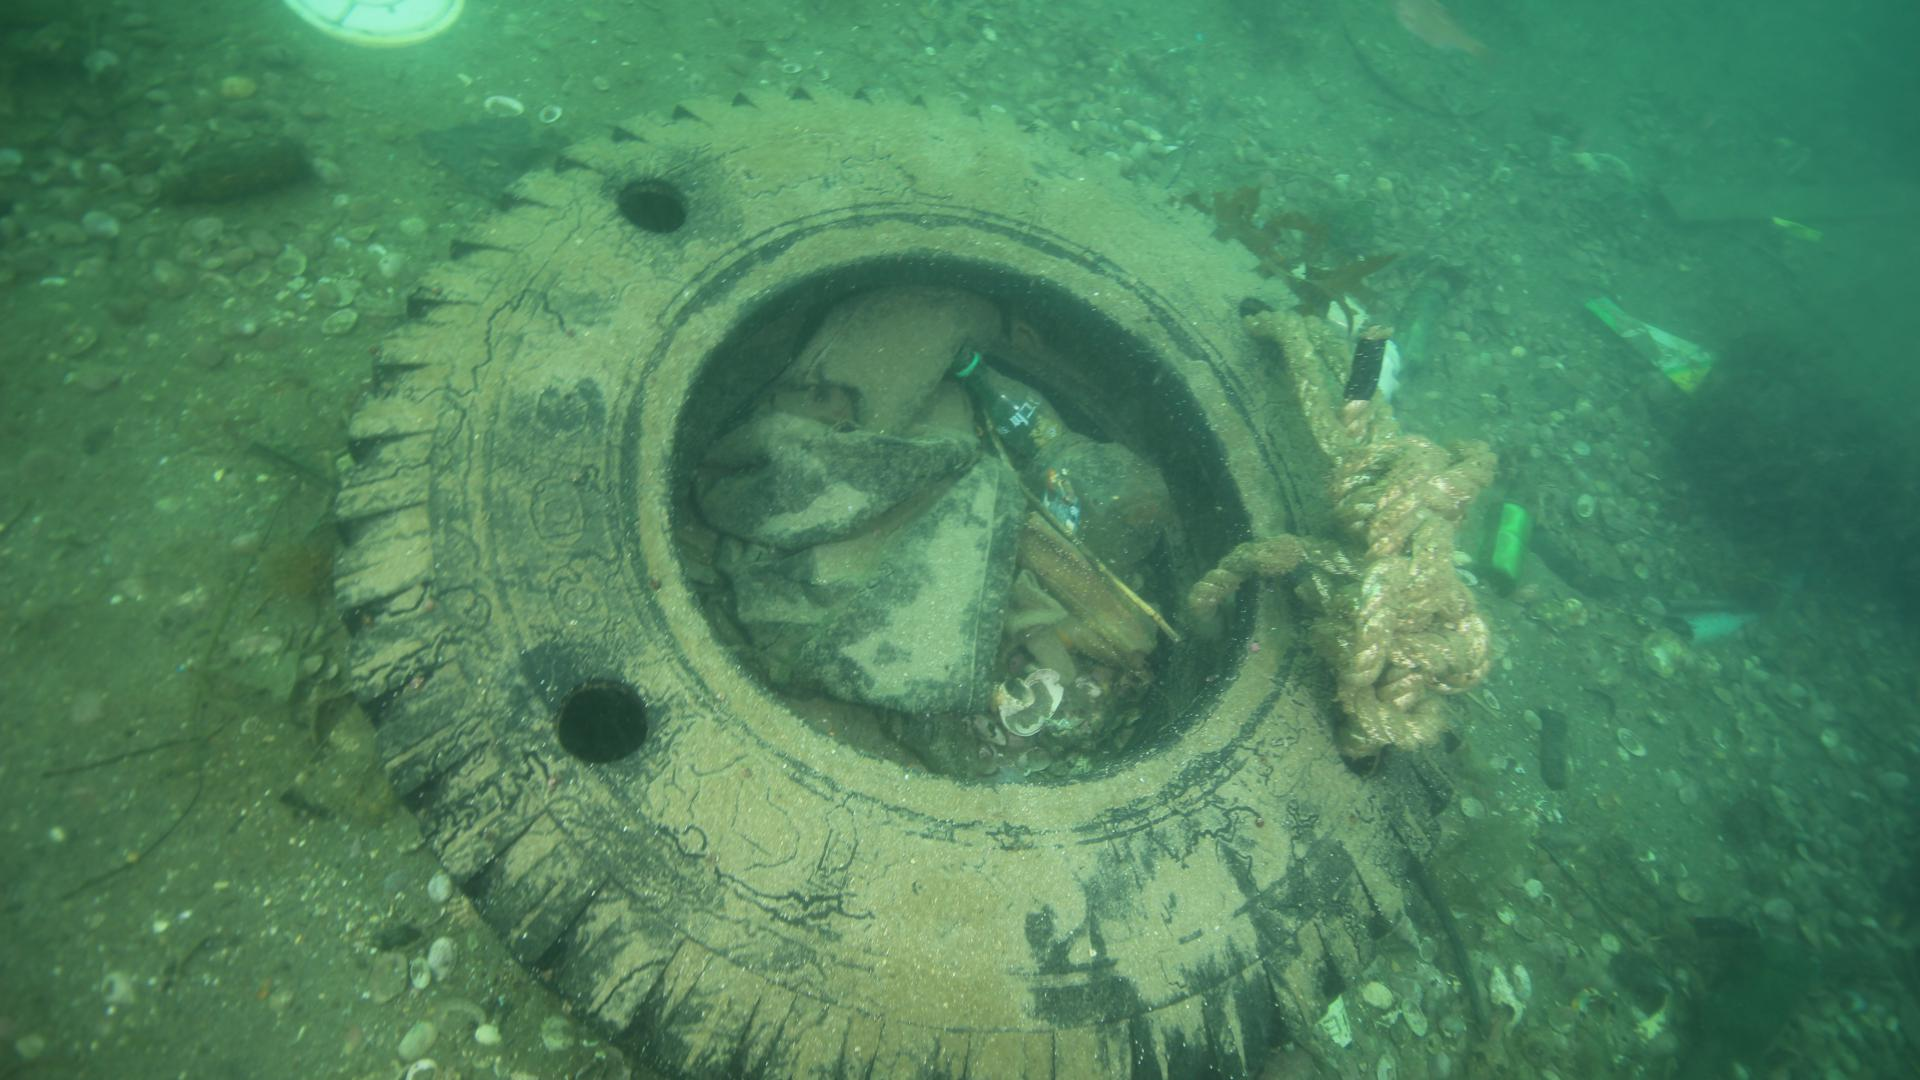bundle of ropes: (1183, 305, 1505, 764)
tire: (323, 76, 1472, 1077)
